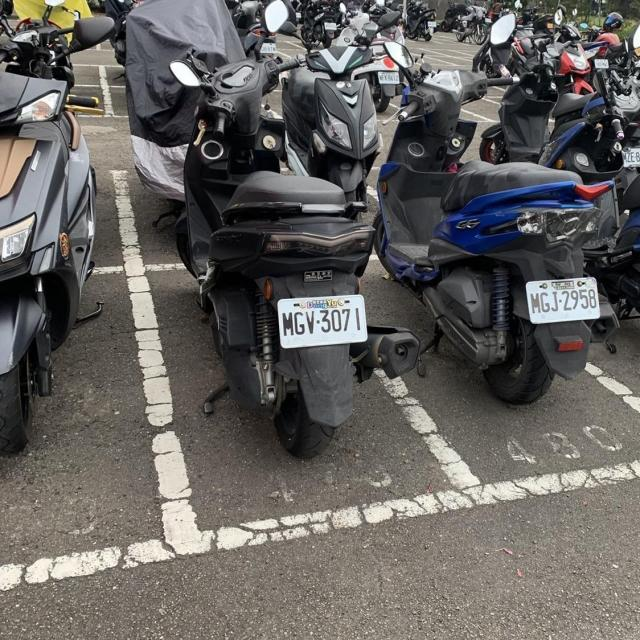W: (272, 289, 376, 351), (521, 272, 603, 326), (617, 146, 640, 168)
